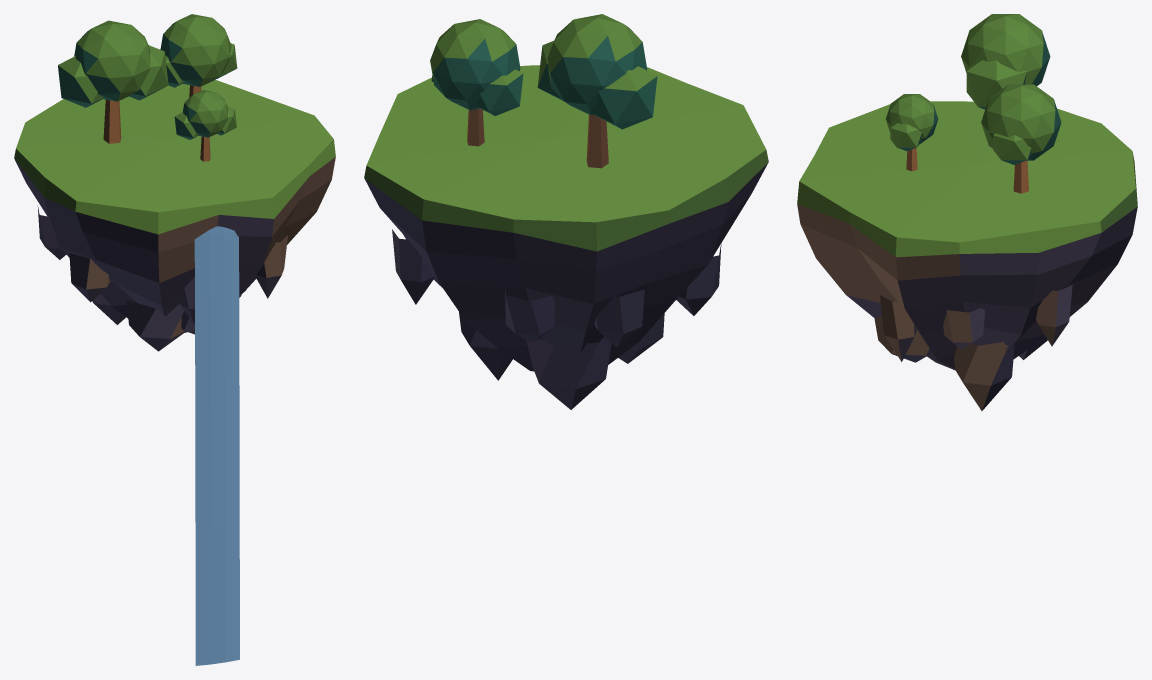
Rendered from far_island_a.glb.
3 renders of one model, left to right at view 1: azimuth 30°, elevation 25°; view 2: azimuth 150°, elevation 25°; view 3: azimuth 270°, elevation 25°, orthographic. The views are drawn at different scales.
Parts seen in each view (by area): view 1: Island, Waterfall; view 2: Island; view 3: Island.
Part boxes in pixels (x1,y1,x2,y2): Island: (14, 14, 335, 351); Waterfall: (194, 226, 239, 665); Island: (364, 14, 768, 409); Island: (797, 14, 1137, 410).
Size of the model in its own units: 43.39 by 89.08 by 43.65.
